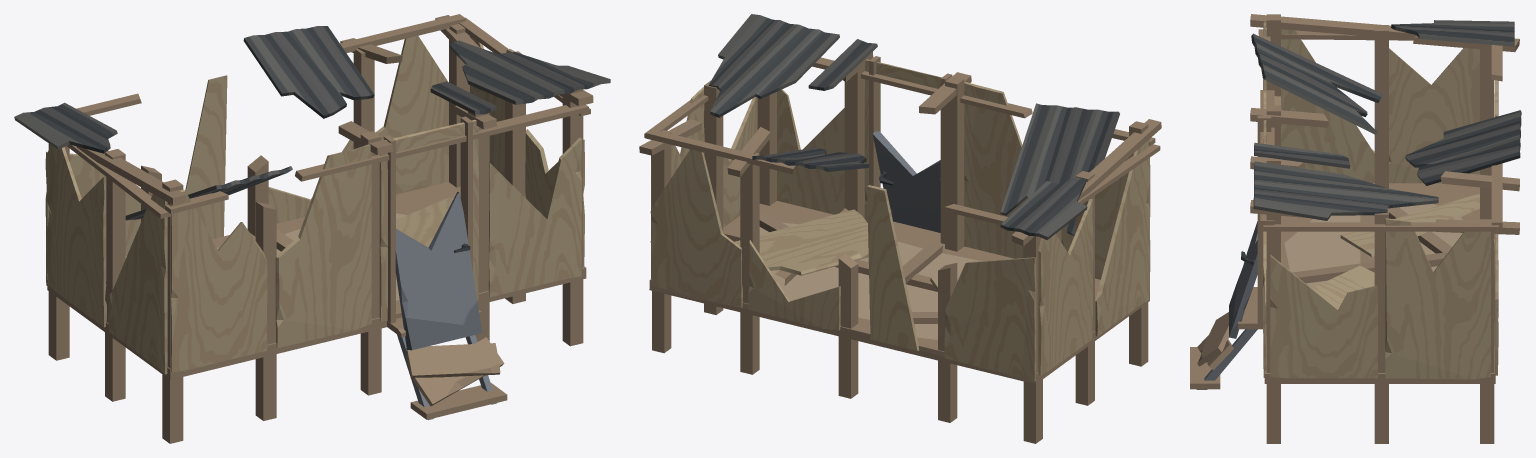
Rendered from SM_Bld_Plywood_Shed_Small_Destroyed_01.glb.
3 renders of one model, left to right at view 1: azimuth 30°, elevation 25°; view 2: azimuth 150°, elevation 25°; view 3: azimuth 270°, elevation 25°, orthographic. The views are drawn at different scales.
Visible parts, largest first — view 1: SM_Bld_Plywood_Shed_Small_Destroyed_01; view 2: SM_Bld_Plywood_Shed_Small_Destroyed_01; view 3: SM_Bld_Plywood_Shed_Small_Destroyed_01.
Part boxes in pixels (left/top/right/bottom): SM_Bld_Plywood_Shed_Small_Destroyed_01: left=14, top=14, right=610, bottom=443; SM_Bld_Plywood_Shed_Small_Destroyed_01: left=639, top=14, right=1161, bottom=443; SM_Bld_Plywood_Shed_Small_Destroyed_01: left=1190, top=14, right=1521, bottom=443.
Bounding box in the file's own units: 6.57 × 3.67 × 4.39.
Materials: 1 (1 with a texture image).
